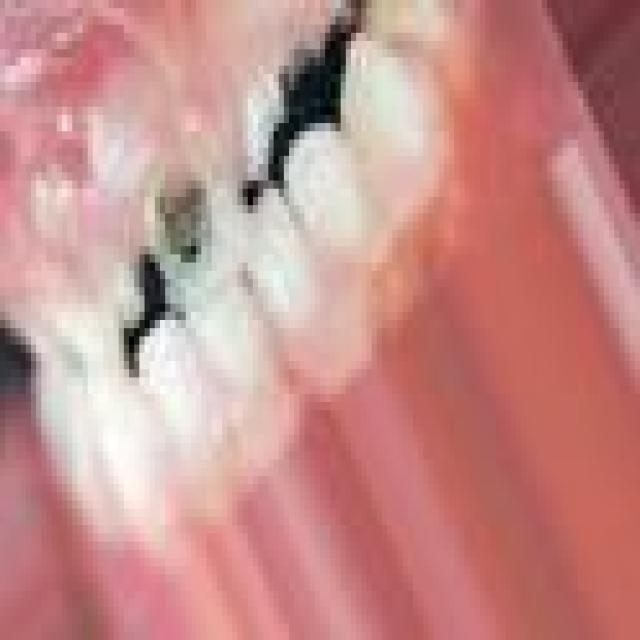caries: (149, 148, 250, 305)
